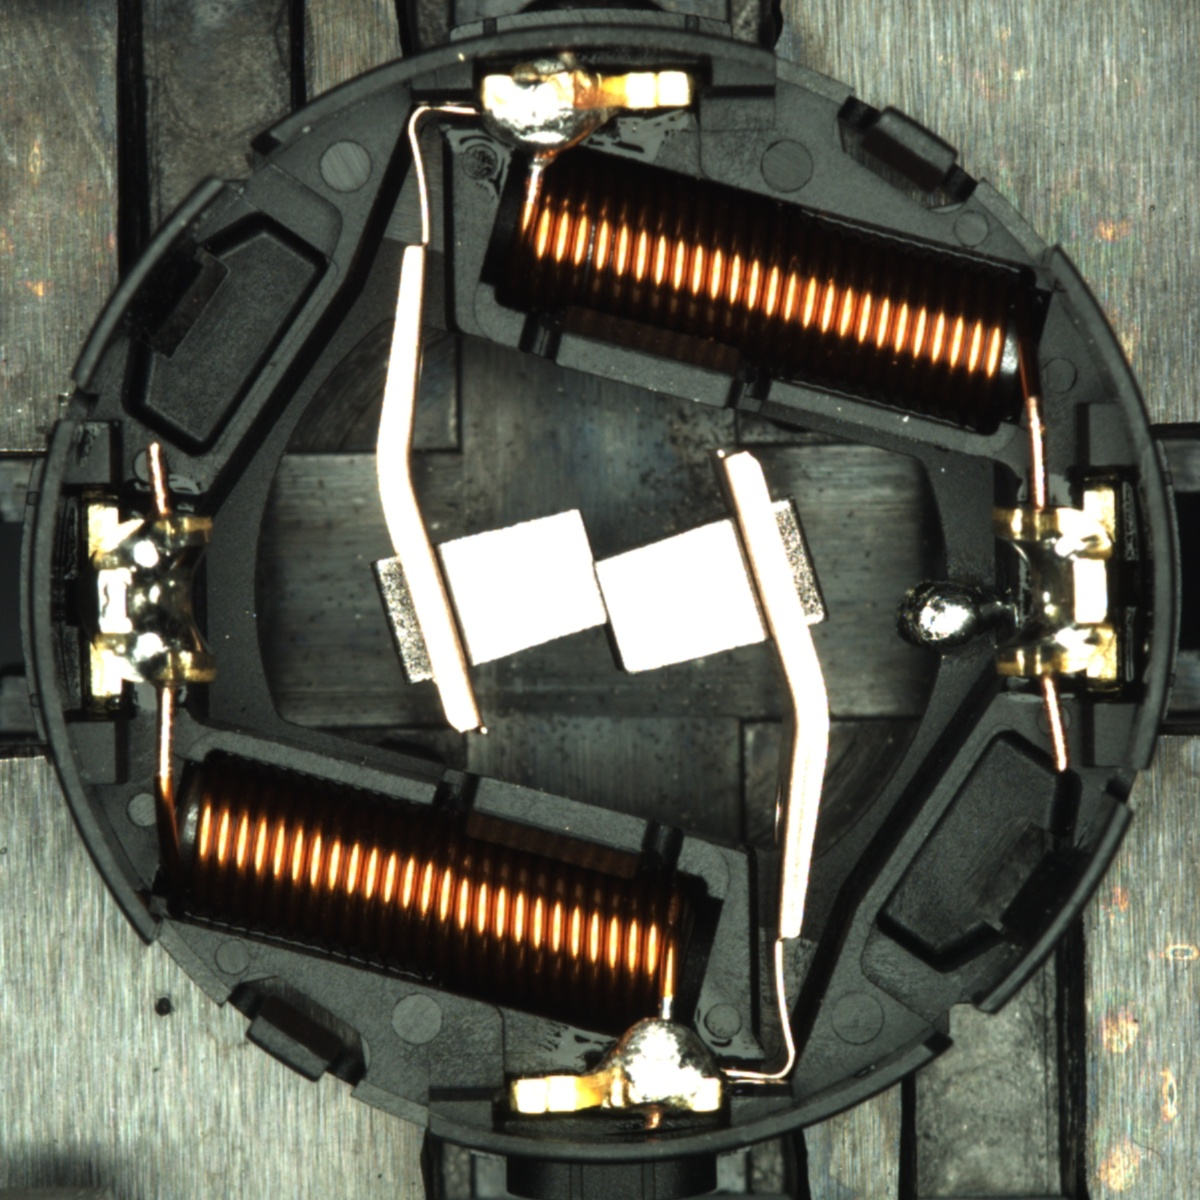1: (254, 31, 482, 255), (712, 929, 941, 1153)
2: (712, 31, 941, 255), (254, 929, 482, 1153)
3: (941, 703, 1170, 929), (24, 255, 254, 479)
4: (712, 703, 941, 929), (254, 255, 482, 479)
5: (482, 815, 712, 1041), (482, 143, 712, 367)
6: (254, 703, 482, 929), (712, 255, 941, 479)
7: (24, 703, 254, 929), (941, 255, 1170, 479)
cacbon: (397, 499, 797, 685)
chau_dien: (80, 498, 220, 700)
hat_chi: (898, 580, 980, 656)
tay_choi: (479, 67, 696, 167), (511, 1014, 723, 1115)
thanh_de: (955, 787, 1142, 1030), (59, 165, 244, 404)
vun_chi: (898, 582, 997, 656)
